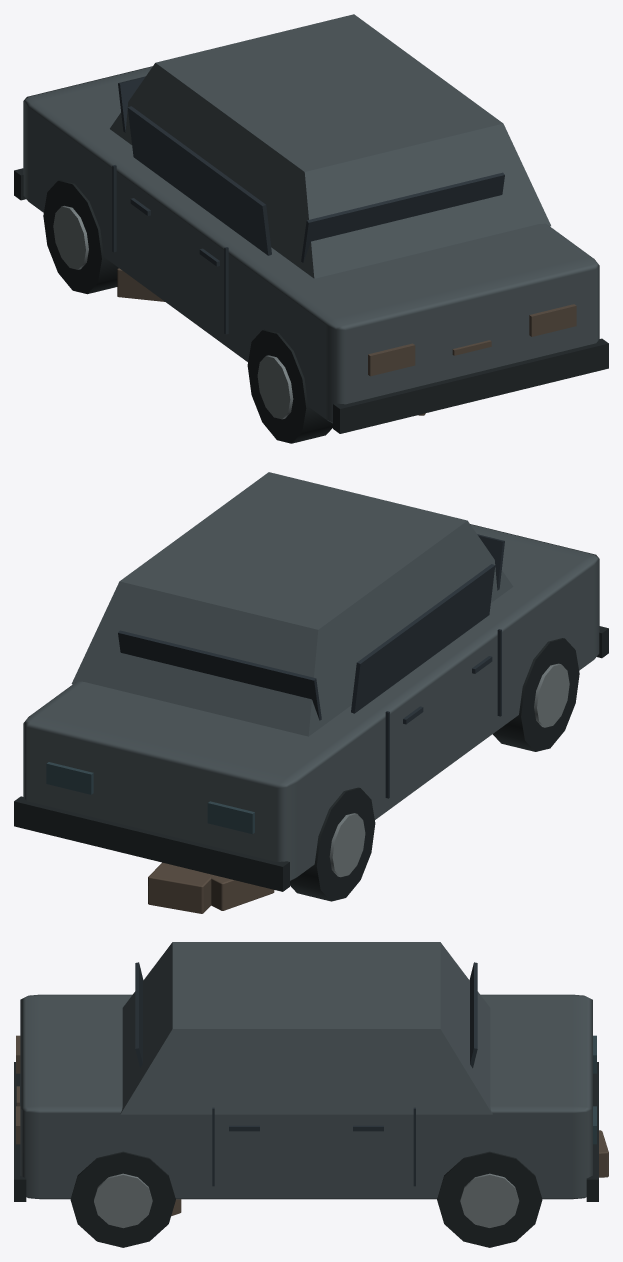
Rendered from hatchback-wreck-1.glb.
3 views of the same model, one above another, from view 1: azimuth 30°, elevation 25°; view 2: azimuth 150°, elevation 25°; view 3: azimuth 270°, elevation 25° (orthographic). The views are drawn at different scales.
Visible parts, largest first — view 1: hatchback-wreck/0/KR-230-1; view 2: hatchback-wreck/0/KR-230-1; view 3: hatchback-wreck/0/KR-230-1.
Boxes of the visible parts, x1,y1,x2,y2 form: hatchback-wreck/0/KR-230-1: (14,14,608,443); hatchback-wreck/0/KR-230-1: (14,472,608,913); hatchback-wreck/0/KR-230-1: (14,942,608,1247).
Bounding box in the file's own units: 1.87 × 1.5 × 3.84.
